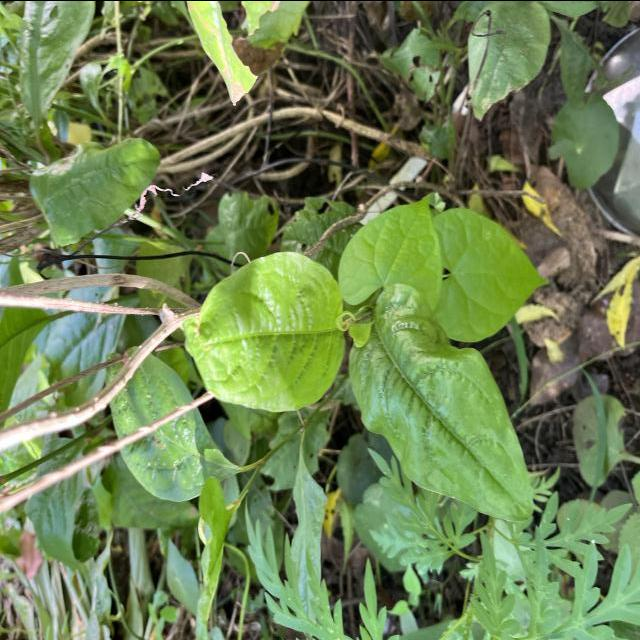Plumbago indica: (344, 281, 536, 524), (185, 248, 348, 412)
